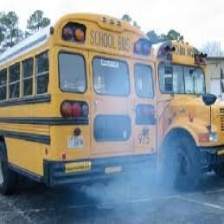smoke: (84, 170, 171, 207)
